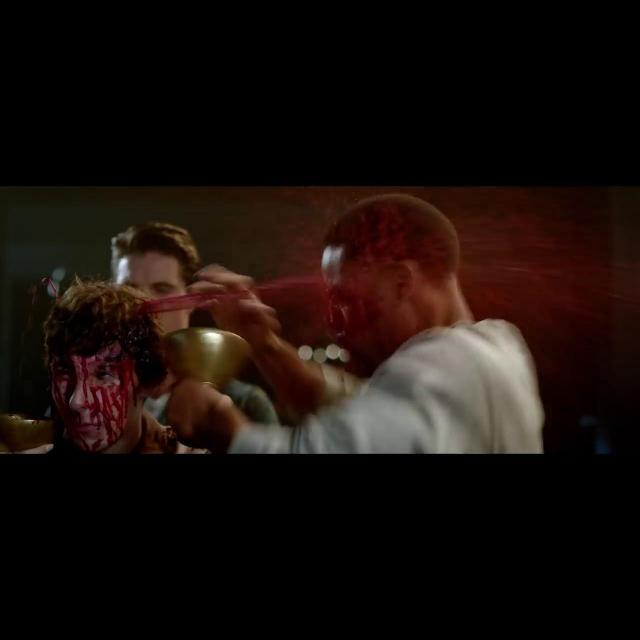blood: (140, 194, 474, 365), (48, 316, 166, 454), (40, 278, 58, 300), (27, 284, 37, 308), (24, 312, 32, 332)
